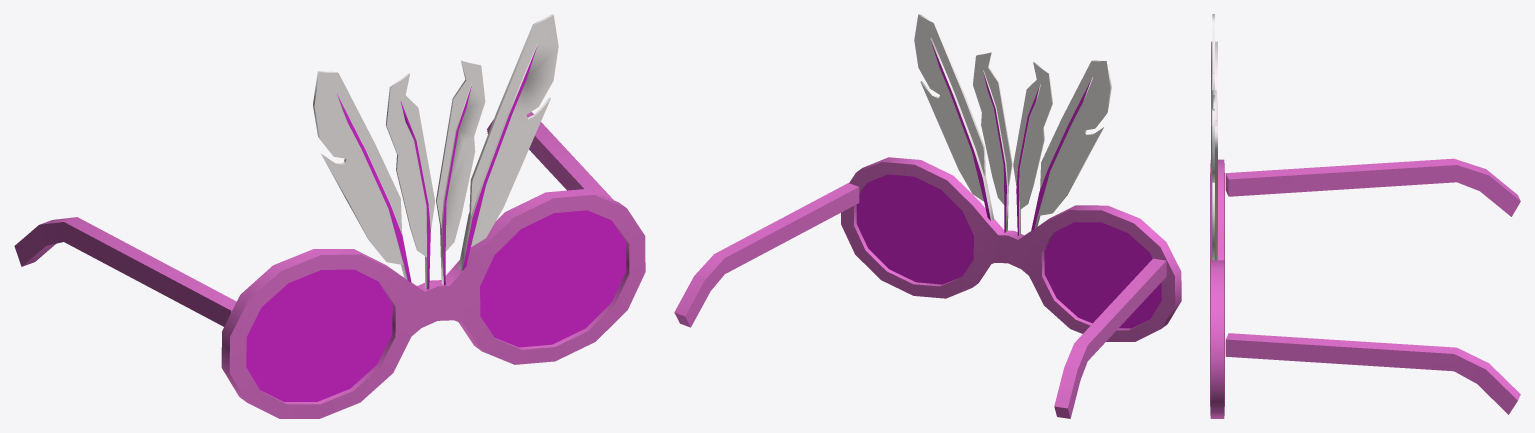
File: Glasses_feathers.fbx
3 renders of one model, left to right at view 1: azimuth 30°, elevation 25°; view 2: azimuth 150°, elevation 25°; view 3: azimuth 270°, elevation 25°, orthographic. The views are drawn at different scales.
Parts seen in each view (by area): view 1: Glasses_feathers.c, Glasses_stick_27, Glasses_stick_28; view 2: Glasses_feathers.c, Glasses_stick_28, Glasses_stick_27; view 3: Glasses_stick_28, Glasses_stick_27, Glasses_feathers.c.
Boxes of the visible parts, left/top/right/bottom form: Glasses_feathers.c: left=221, top=14, right=645, bottom=418; Glasses_stick_27: left=14, top=217, right=236, bottom=326; Glasses_stick_28: left=487, top=112, right=613, bottom=199; Glasses_feathers.c: left=841, top=14, right=1181, bottom=341; Glasses_stick_28: left=674, top=183, right=859, bottom=327; Glasses_stick_27: left=1054, top=258, right=1166, bottom=418; Glasses_stick_28: left=1225, top=333, right=1520, bottom=414; Glasses_stick_27: left=1225, top=158, right=1520, bottom=216; Glasses_feathers.c: left=1210, top=14, right=1224, bottom=418.
Bounding box in the file's own units: 0.707 × 0.4771 × 0.4515.
